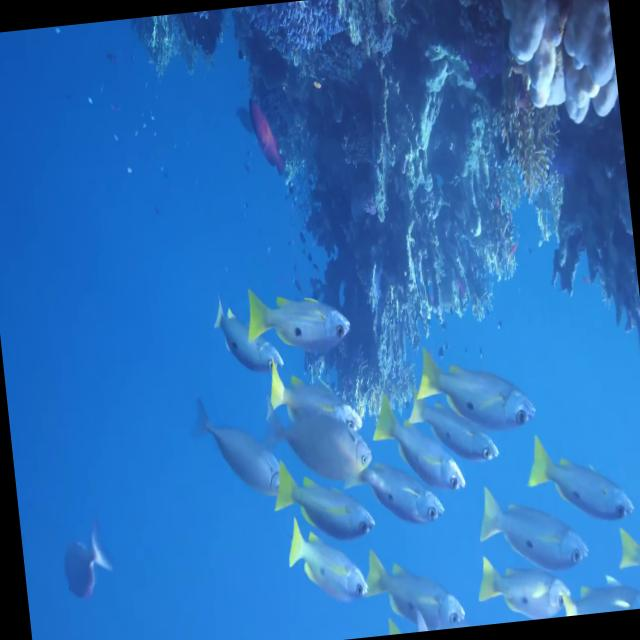fish: (414, 340, 542, 436), (188, 380, 289, 500), (474, 476, 587, 580), (367, 387, 466, 500), (524, 431, 634, 528), (364, 540, 466, 632), (244, 276, 356, 358), (260, 405, 374, 485), (404, 384, 499, 470), (274, 466, 376, 546), (270, 361, 364, 442), (284, 515, 368, 604), (476, 550, 574, 622), (209, 283, 286, 372), (63, 534, 113, 600)
